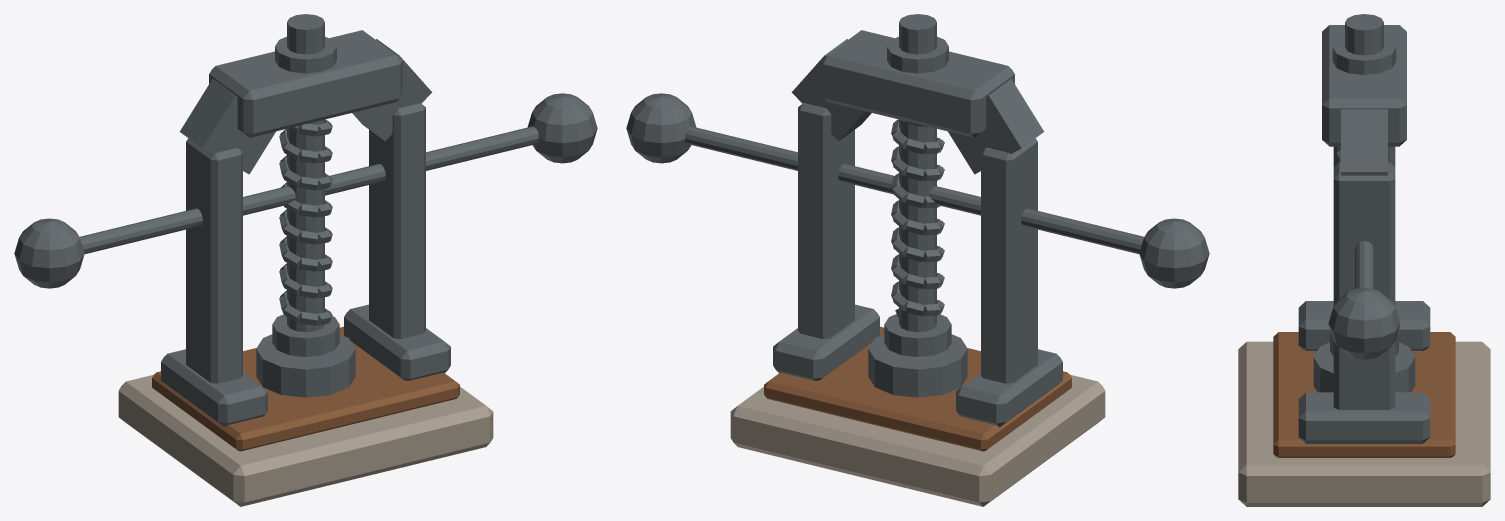
Rendered from screw-press.glb.
3 views of the same model, side by side, from view 1: azimuth 30°, elevation 25°; view 2: azimuth 150°, elevation 25°; view 3: azimuth 270°, elevation 25° (orthographic). The views are drawn at different scales.
Visible parts, largest first — view 1: screw_bar, Board, Board.003, Board.006, Board.008, Board.001, Cone, Board.002, Board.005, Board.004, Board.007, Cone.001; view 2: screw_bar, Board, Board.003, Board.006, Board.008, Board.001, Cone, Board.002, Board.005, Board.004, Board.007, Cone.001; view 3: Board, Board.006, Board.001, screw_bar, Board.008, Board.005, Board.007, Board.002, Cone, Cone.001.
Part boxes in pixels (x1,y1,x2,y2): screw_bar: (14, 14, 597, 356); Board: (118, 374, 493, 506); Board.003: (186, 138, 242, 383); Board.006: (369, 103, 425, 338); Board.008: (209, 30, 402, 137); Board.001: (152, 326, 459, 451); Cone: (256, 334, 355, 397); Board.002: (161, 349, 267, 427); Board.005: (344, 304, 450, 380); Board.004: (179, 79, 275, 174); Board.007: (352, 39, 432, 141); Cone.001: (275, 36, 336, 73); screw_bar: (626, 14, 1209, 356); Board: (730, 374, 1105, 506); Board.003: (981, 138, 1037, 383); Board.006: (798, 103, 854, 338); Board.008: (821, 30, 1014, 137); Board.001: (764, 326, 1071, 451); Cone: (868, 334, 967, 397); Board.002: (956, 349, 1062, 427); Board.005: (773, 304, 879, 380); Board.004: (948, 79, 1044, 174); Board.007: (791, 39, 871, 141); Cone.001: (887, 36, 948, 73); Board: (1238, 341, 1490, 506); Board.006: (1333, 162, 1395, 409); Board.001: (1273, 332, 1455, 457); screw_bar: (1328, 14, 1400, 359); Board.008: (1322, 25, 1406, 146); Board.005: (1298, 392, 1430, 443); Board.007: (1341, 109, 1387, 175); Board.002: (1298, 301, 1430, 350); Cone: (1313, 342, 1415, 392); Cone.001: (1332, 37, 1396, 74).
Bounding box in the file's own units: 3.2 × 2.2 × 1.19.
